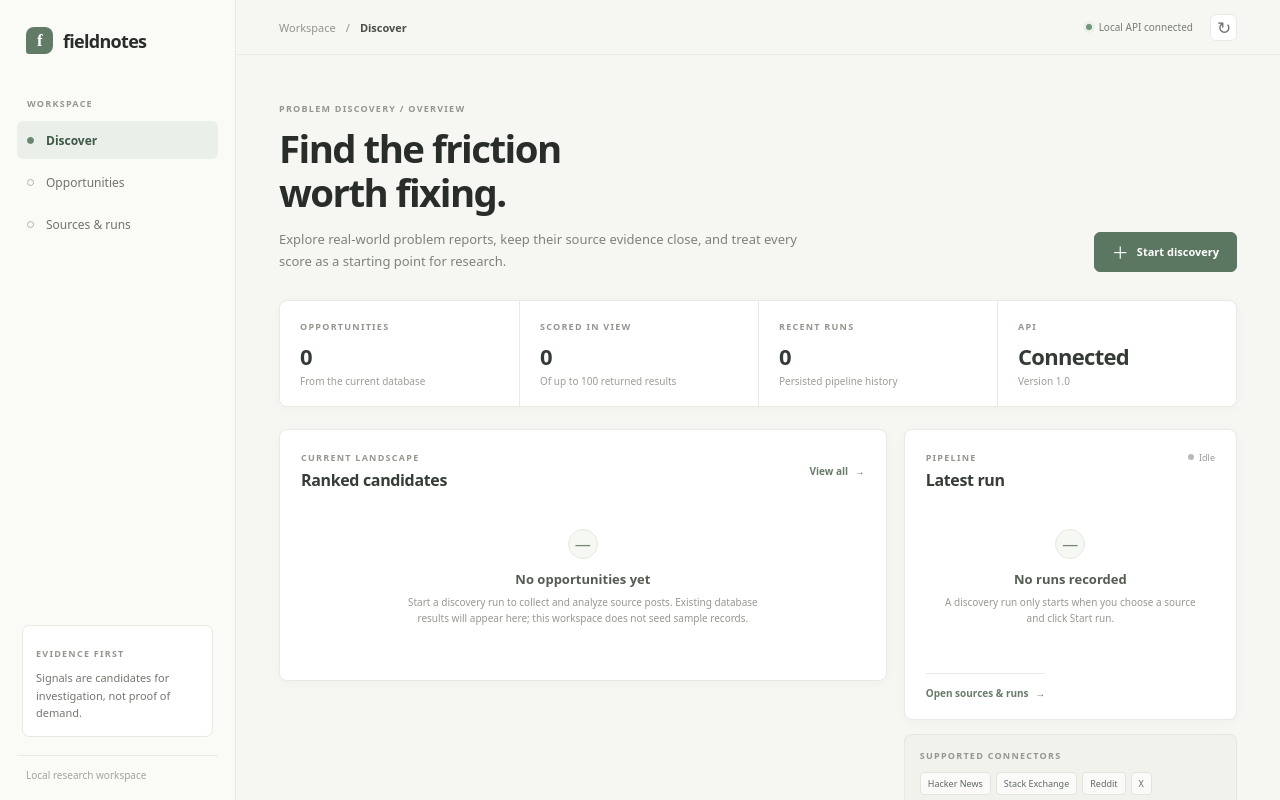
Fieldnotes workspace › does not show a successful run after a failed start request
The image size is (1280, 800).
Click the link "Sources & runs" at [79, 224], box [27, 216, 131, 232]
(page scrolled)
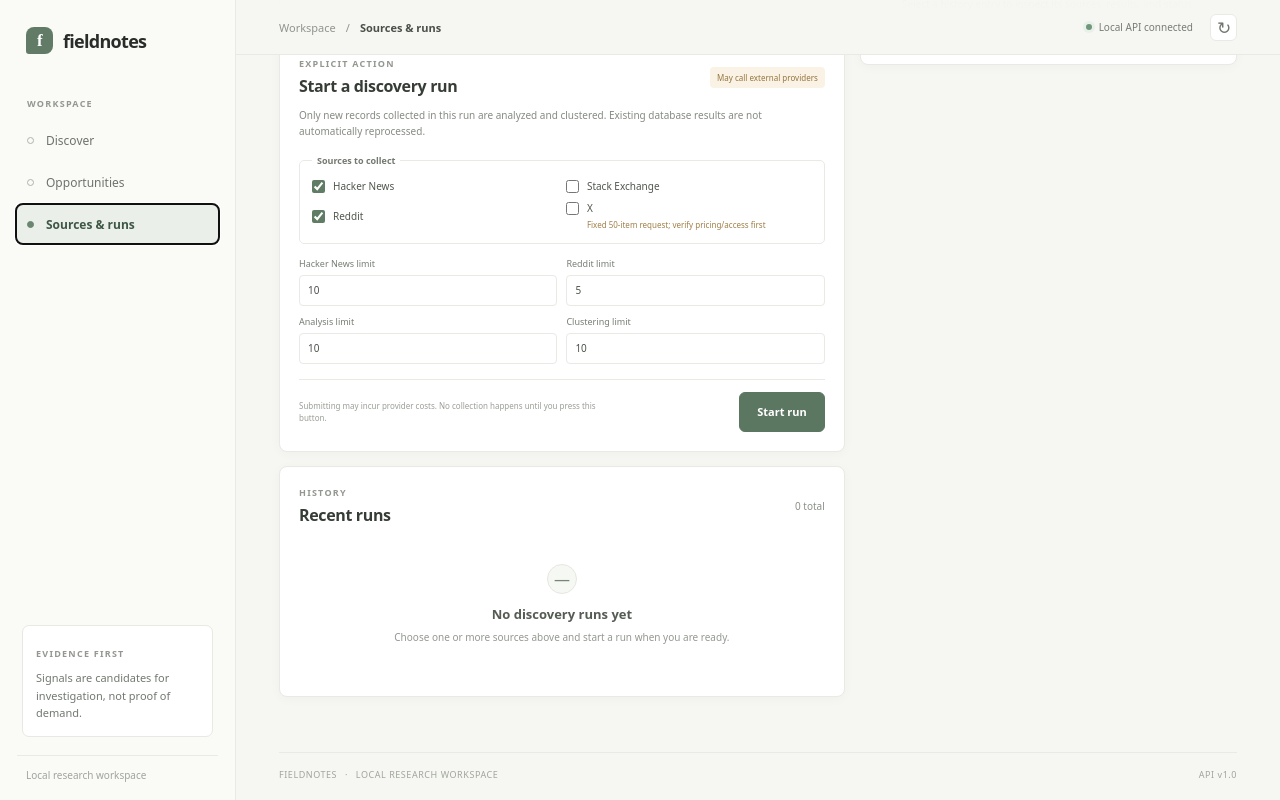
Click the button "Start run" at [782, 412], box [739, 392, 825, 432]
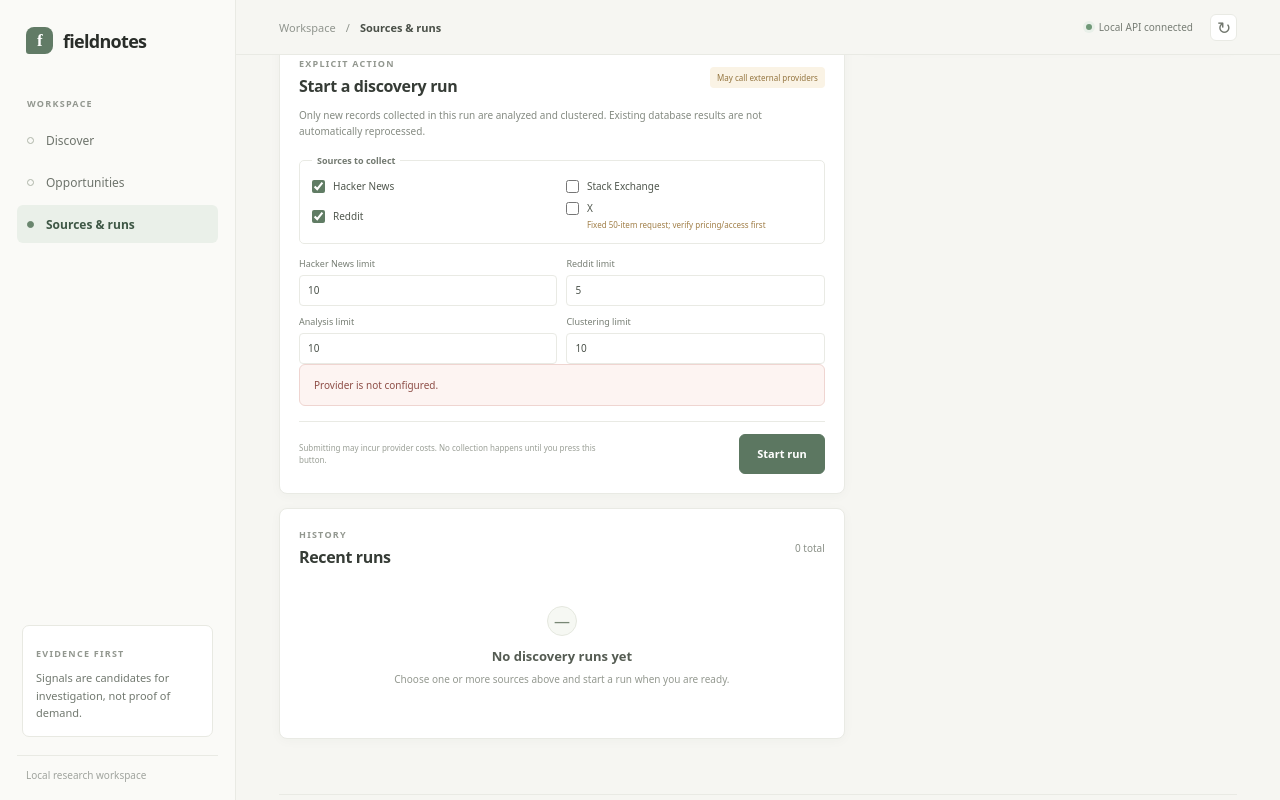
Expected: the message reads "Provider is not configured.", [314, 378, 438, 392]
